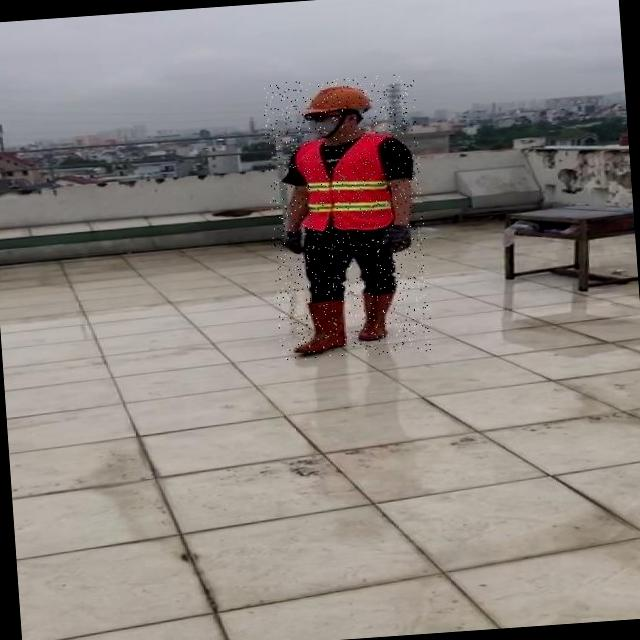boots: (290, 297, 351, 354), (356, 290, 396, 340)
gloves: (379, 206, 437, 261), (280, 213, 332, 268)
helmet: (303, 82, 375, 116)
vest: (294, 133, 396, 232)
